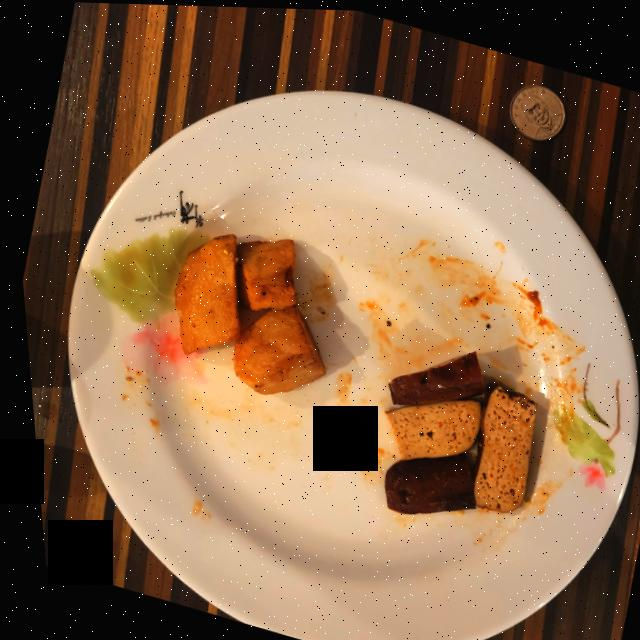coin: (507, 80, 564, 136)
firm tofu: (377, 348, 529, 510)
fried potato: (169, 232, 318, 392)
